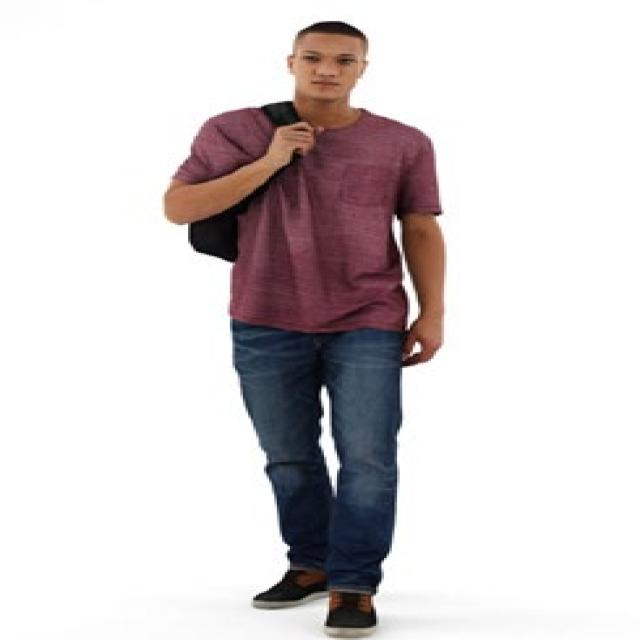standing: (159, 17, 452, 640)
